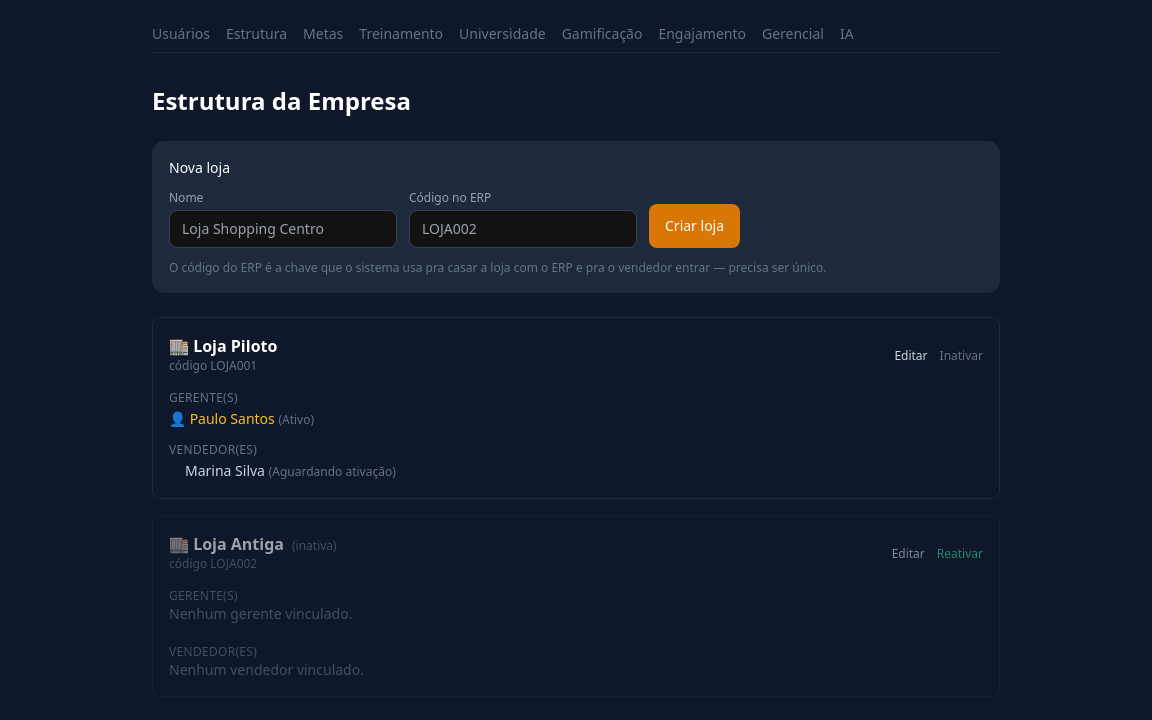
it: AdminEstrutura › mostra a mensagem real do backend quando o código do ERP já existe
Expected: the text "🏬 Loja Piloto" is shown, [169,334,277,358]
Type "Duplicada" into the field labelled "Nome".
click(283, 229); type("Duplicada")  # box [169,210,397,248]
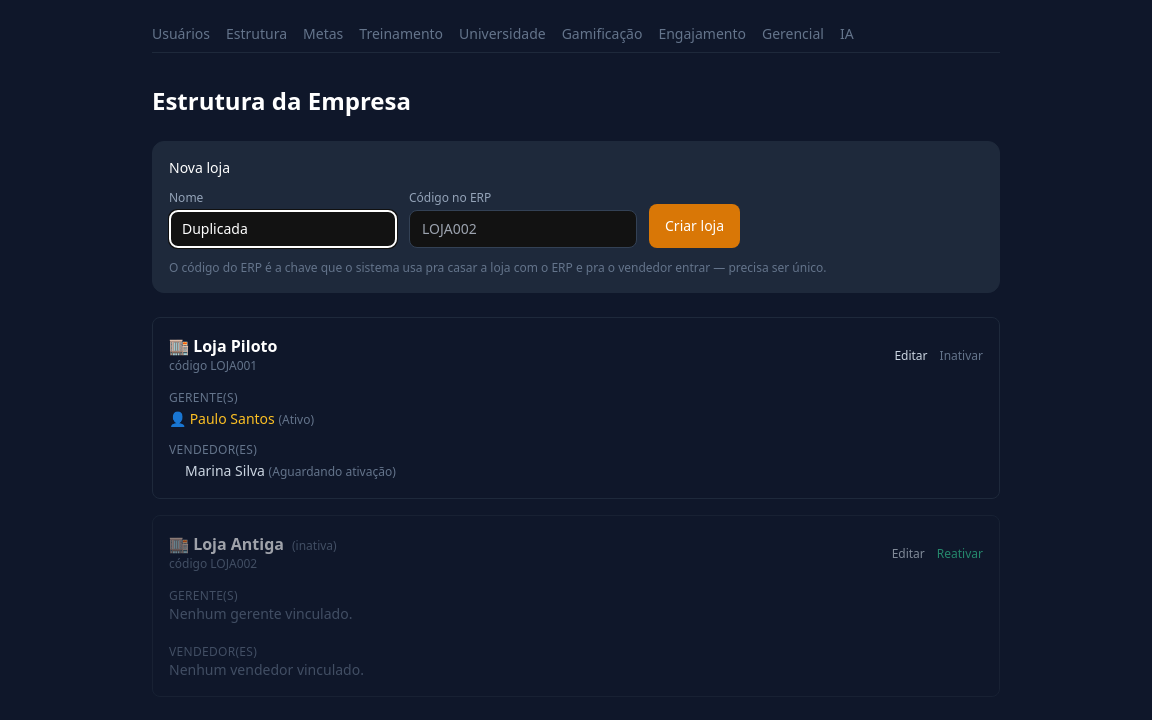
Type "LOJA001" into the field labelled "Código no ERP".
click(523, 229); type("LOJA001")  # box [409,210,637,248]
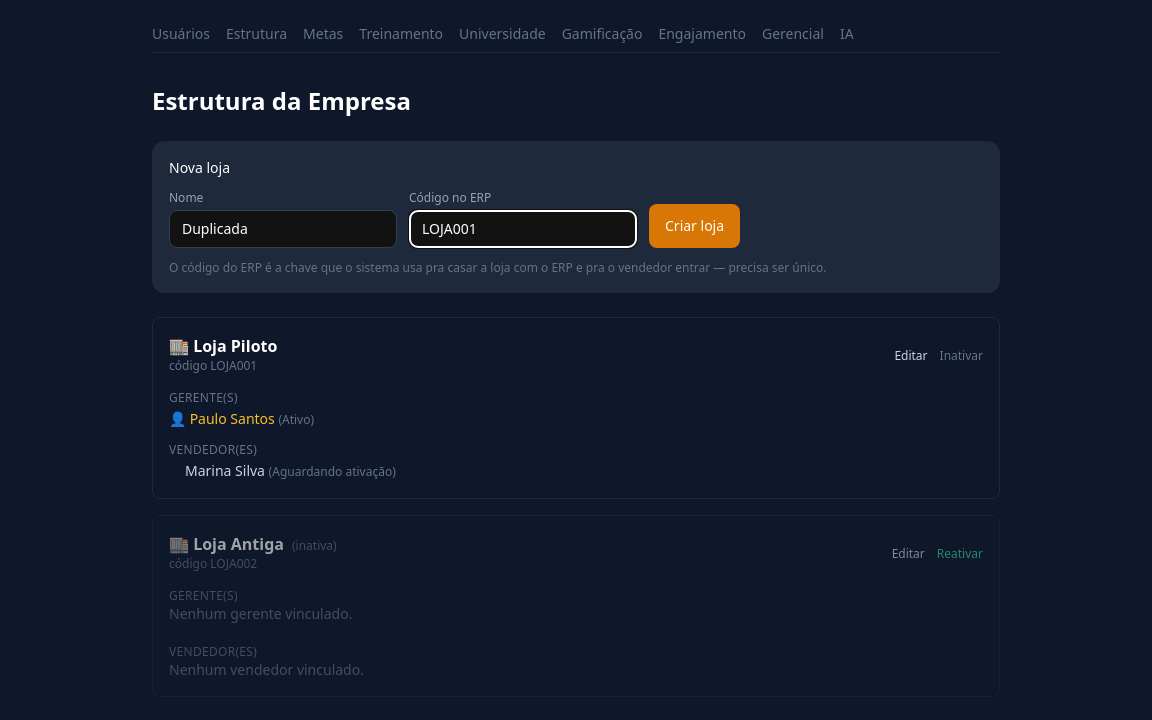
Click the button "Criar loja".
click(695, 226)  # box [649,204,740,248]
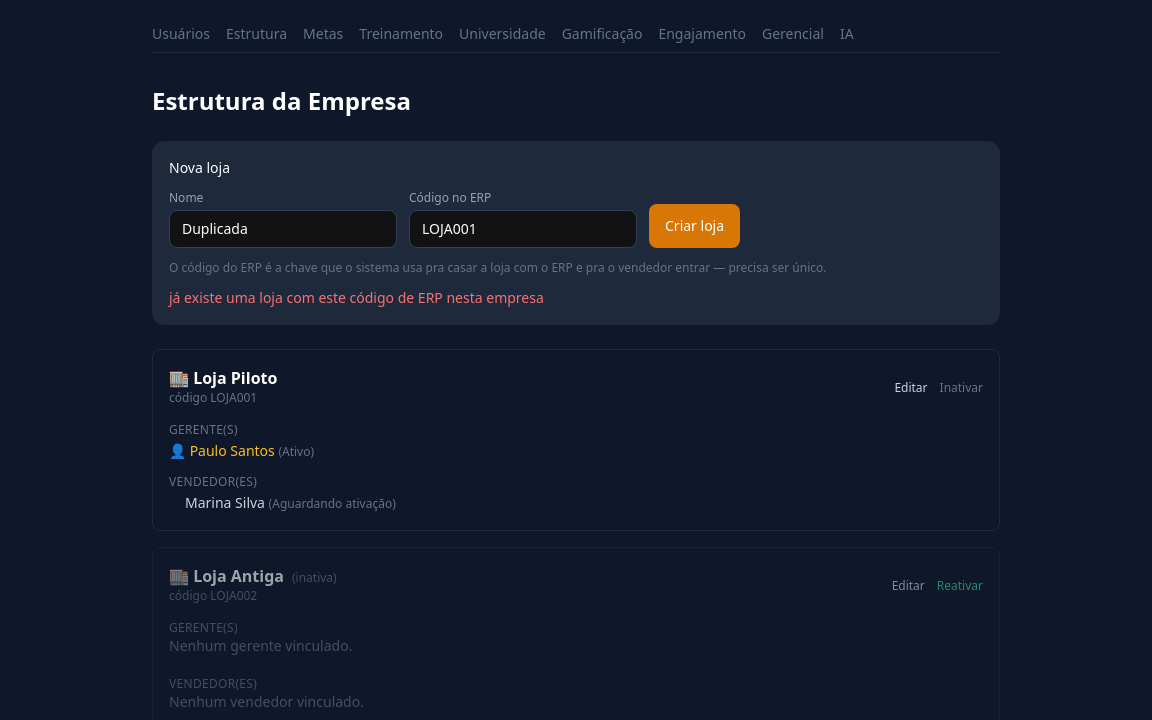
Now the text "já existe uma loja com este código de ERP nesta empresa" is shown, box [169,288,544,307]
